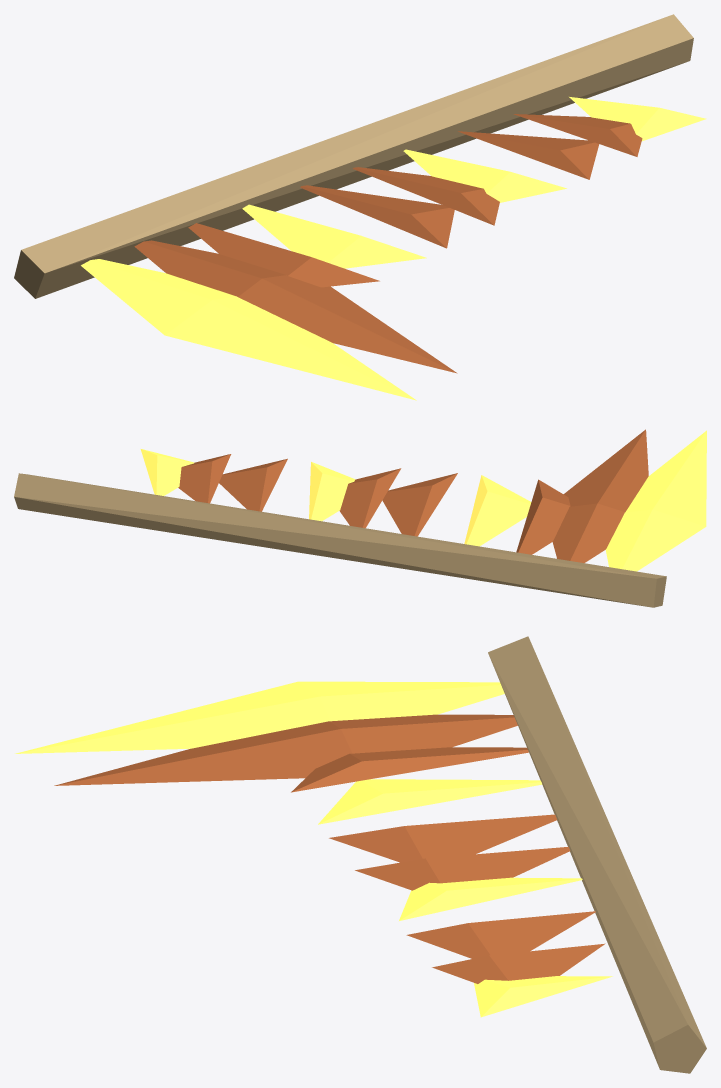
File: wing_r_lod1.glb
The picture shows the model from 3 angles, top to bottom: view 1: azimuth 30°, elevation 25°; view 2: azimuth 150°, elevation 25°; view 3: azimuth 270°, elevation 25°; orthographic projection. The views are drawn at different scales.
Visible parts, largest first — view 1: phoenix_wing_r_LOD1; view 2: phoenix_wing_r_LOD1; view 3: phoenix_wing_r_LOD1.
Boxes of the visible parts, x1,y1,x2,y2 form: phoenix_wing_r_LOD1: (14, 14, 706, 400); phoenix_wing_r_LOD1: (14, 429, 706, 607); phoenix_wing_r_LOD1: (15, 636, 706, 1073).
Size of the model in its own units: 5.75 by 0.3695 by 4.22.
